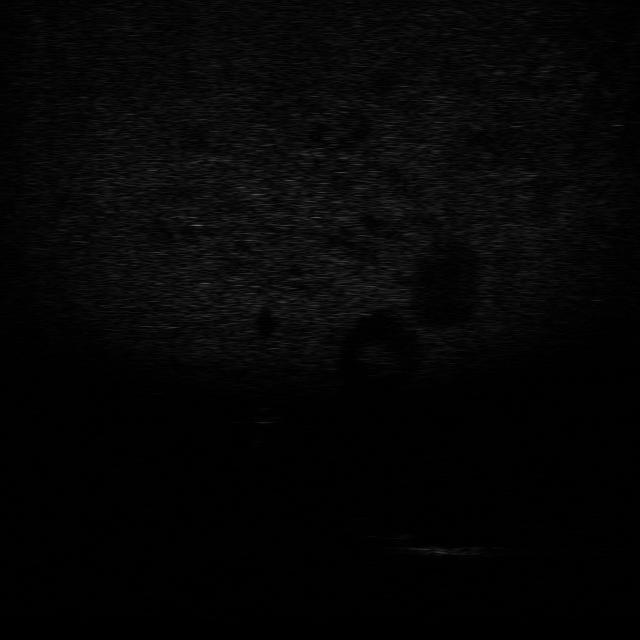ball: (246, 406, 285, 426)
metal bucket: (396, 538, 502, 561)
tyre: (342, 514, 418, 540)
